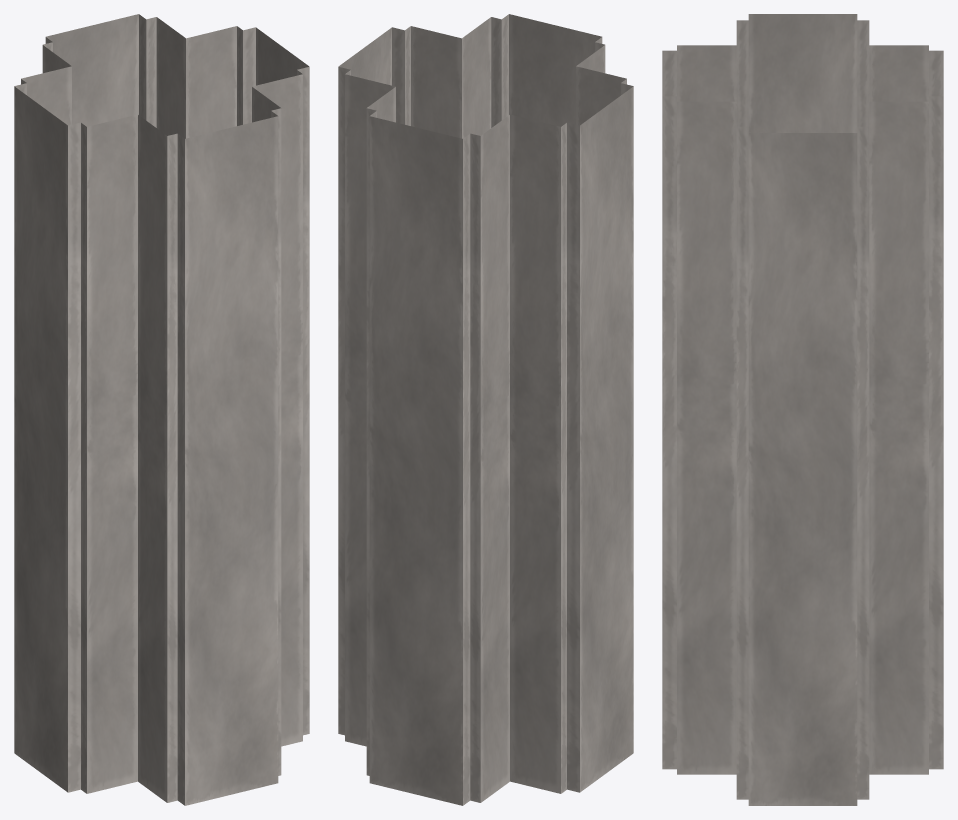
The model's file is Post_B_3m.fbx.
3 views of the same model, side by side, from view 1: azimuth 30°, elevation 25°; view 2: azimuth 150°, elevation 25°; view 3: azimuth 270°, elevation 25° (orthographic).
Parts seen in each view (by area): view 1: Post_B_3m; view 2: Post_B_3m; view 3: Post_B_3m.
Part boxes in pixels (x1,y1,x2,y2): Post_B_3m: (14,14,309,805); Post_B_3m: (338,14,633,805); Post_B_3m: (662,14,943,805).
Size of the model in its own units: 1.14 by 1.14 by 3.
